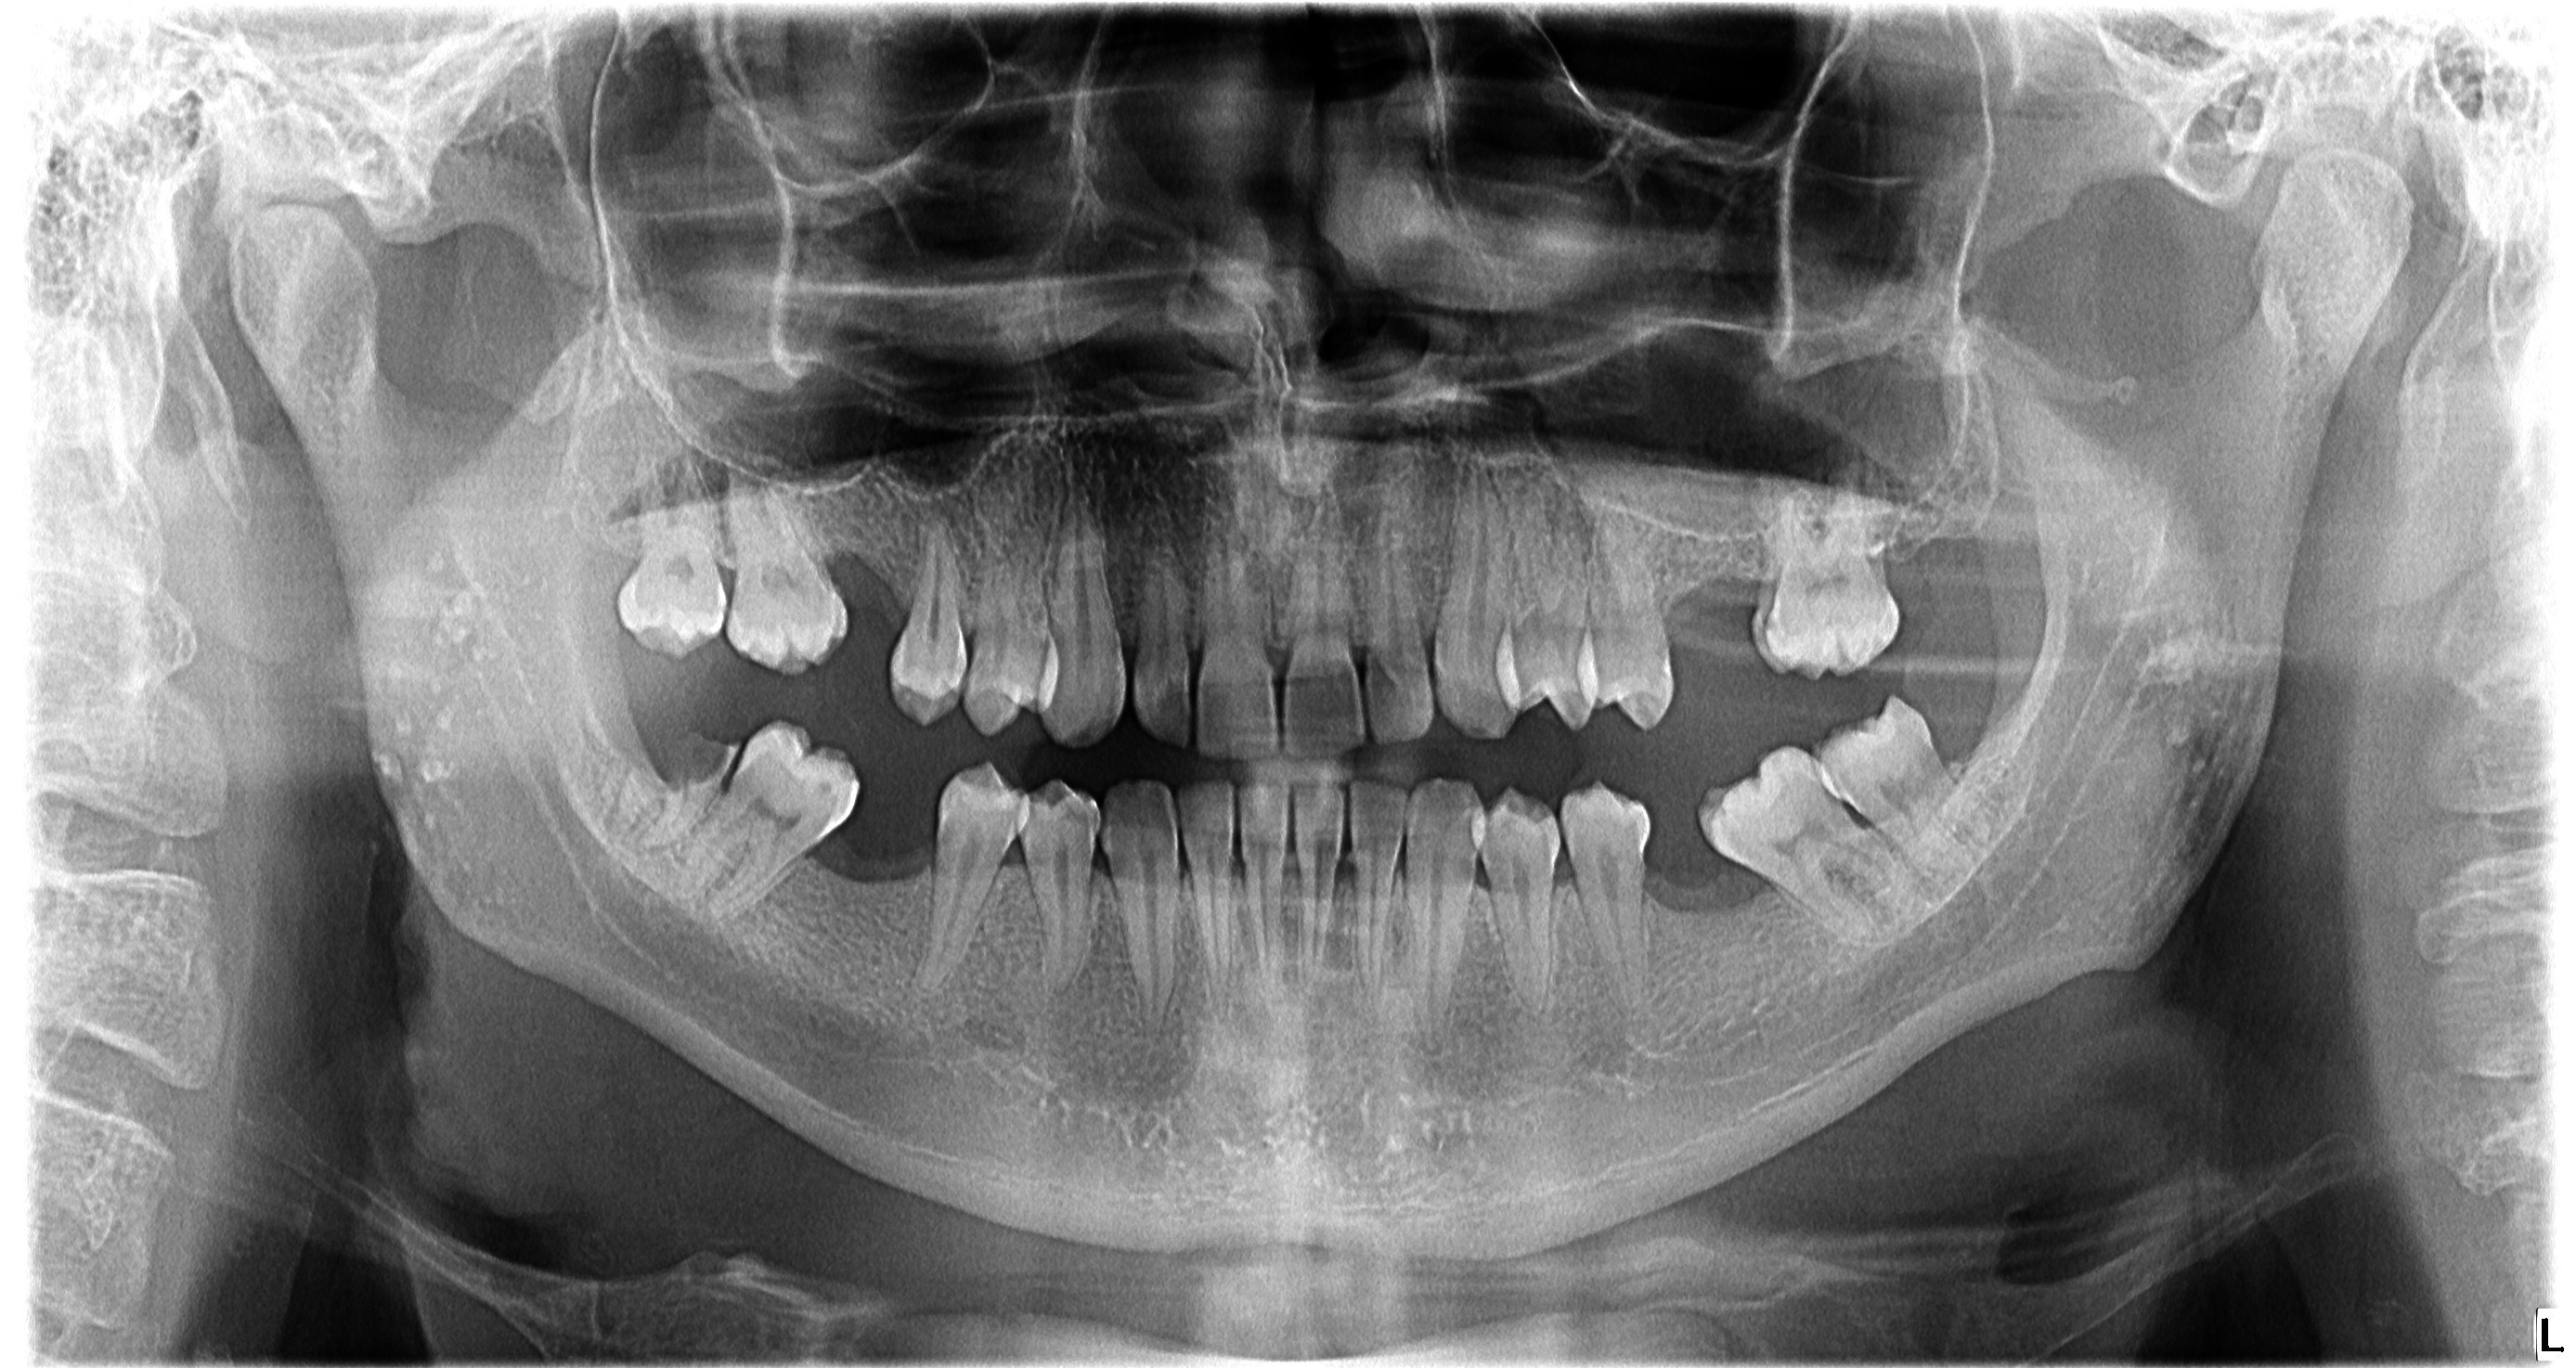BON: (1625, 838, 1787, 944), (799, 516, 930, 625), (1653, 547, 1796, 641)
ROT: (598, 722, 743, 860)
